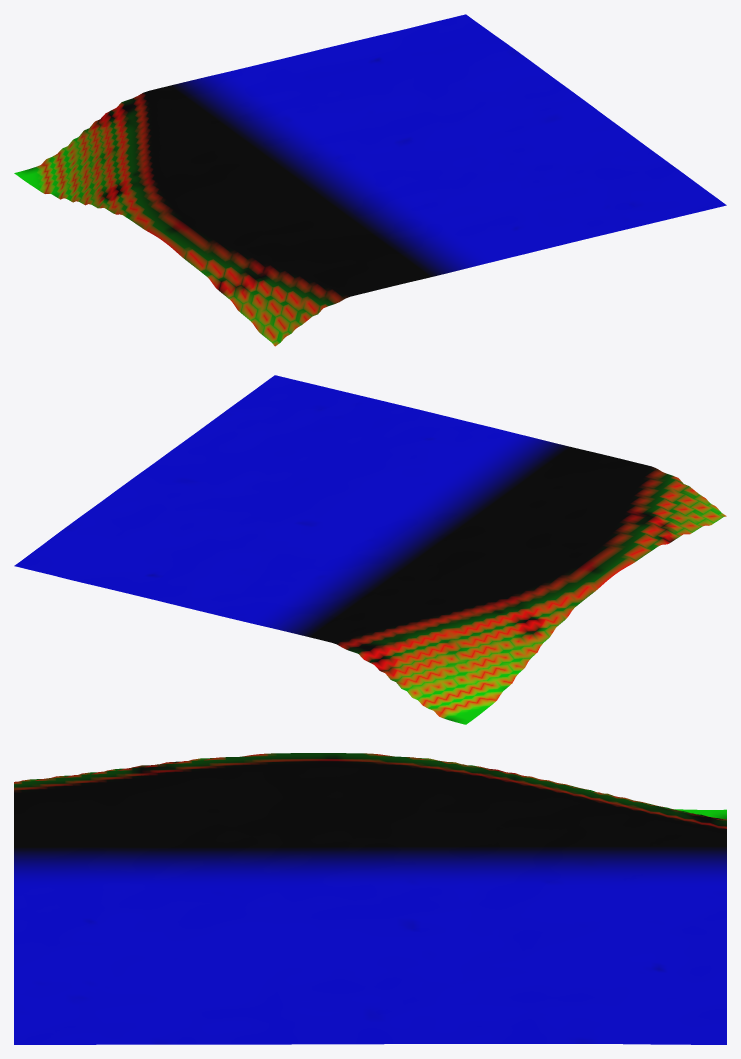
Rendered from SM_RiyadhNights_Terrain_1_1.fbx.
3 renders of one model, top to bottom at view 1: azimuth 30°, elevation 25°; view 2: azimuth 150°, elevation 25°; view 3: azimuth 270°, elevation 25°, orthographic. The views are drawn at different scales.
Parts seen in each view (by area): view 1: SM_RiyadhNights_Terrain_1_1; view 2: SM_RiyadhNights_Terrain_1_1; view 3: SM_RiyadhNights_Terrain_1_1.
Part boxes in pixels (left/top/right/bottom): SM_RiyadhNights_Terrain_1_1: left=14, top=14, right=726, bottom=346; SM_RiyadhNights_Terrain_1_1: left=14, top=375, right=726, bottom=724; SM_RiyadhNights_Terrain_1_1: left=14, top=753, right=726, bottom=1044.
Bounding box in the file's own units: 50400 × 5297 × 50400.
